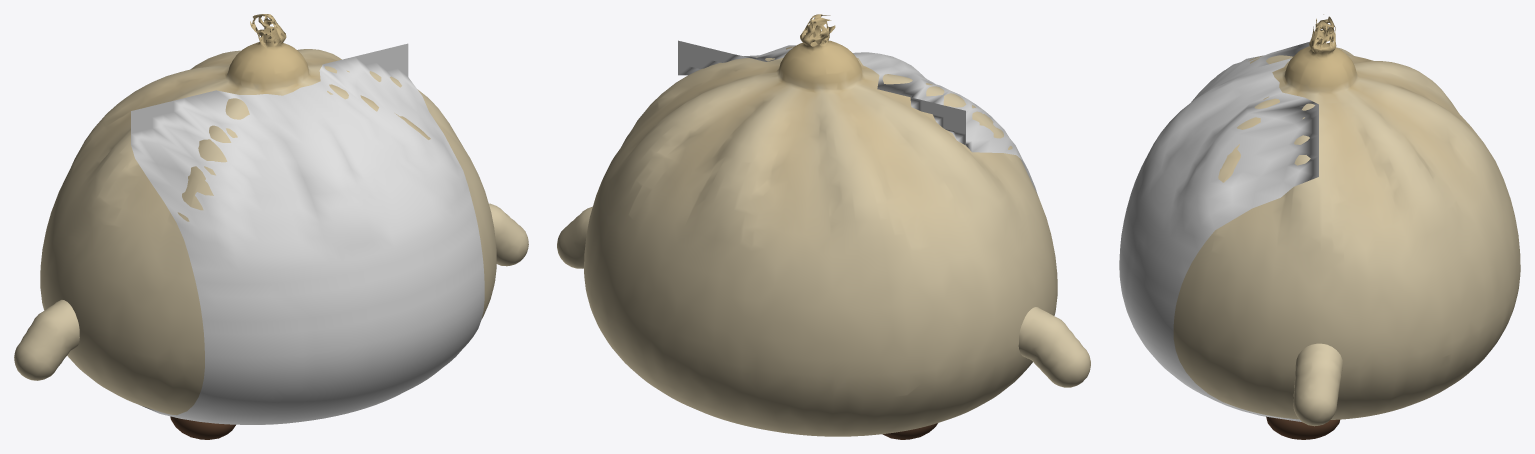
File: folk2_wonton_lod1.glb
3 views of the same model, side by side, from view 1: azimuth 30°, elevation 25°; view 2: azimuth 150°, elevation 25°; view 3: azimuth 270°, elevation 25° (orthographic). The views are drawn at different scales.
Visible parts, largest first — view 1: wonton_face, wonton_body, wonton_arm_l, wonton_arm_r, wonton_foot_l; view 2: wonton_body, wonton_face, wonton_arm_l, wonton_arm_r; view 3: wonton_body, wonton_face, wonton_arm_r, wonton_foot_r.
Part boxes in pixels (x1,y1,x2,y2): wonton_face: (131, 43, 484, 424); wonton_body: (40, 14, 496, 415); wonton_arm_l: (14, 300, 79, 380); wonton_arm_r: (489, 203, 528, 266); wonton_foot_l: (170, 416, 235, 439); wonton_body: (584, 14, 1057, 436); wonton_face: (678, 40, 1037, 194); wonton_arm_l: (1018, 307, 1090, 387); wonton_arm_r: (557, 206, 592, 268); wonton_body: (1173, 14, 1520, 419); wonton_face: (1119, 41, 1318, 421); wonton_arm_r: (1293, 343, 1342, 426); wonton_foot_r: (1266, 416, 1339, 439).
Size of the model in its own units: 1.34 by 0.995 by 0.9459.
